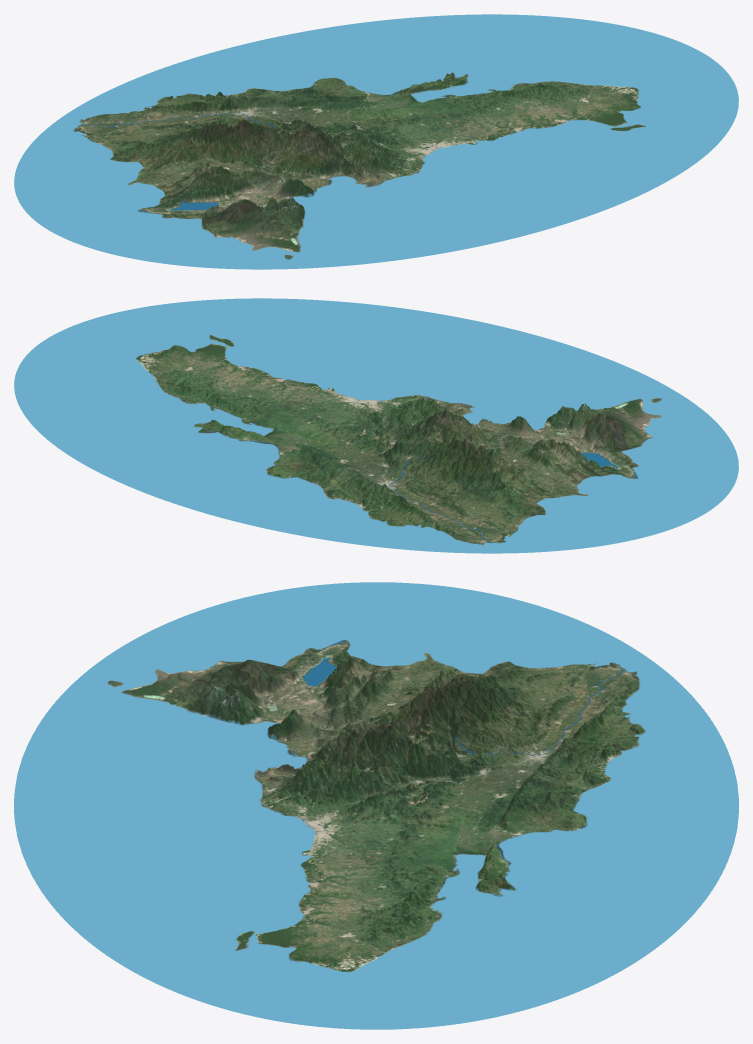
The model's file is DOM-previa-terrain.glb.
3 views of the same model, one above another, from view 1: azimuth 30°, elevation 25°; view 2: azimuth 150°, elevation 25°; view 3: azimuth 270°, elevation 25° (orthographic). The views are drawn at different scales.
Parts seen in each view (by area): view 1: República Dominicana; view 2: República Dominicana; view 3: República Dominicana.
Boxes of the visible parts, left/top/right/bottom form: República Dominicana: left=14, top=14, right=738, bottom=269; República Dominicana: left=14, top=298, right=738, bottom=553; República Dominicana: left=14, top=582, right=738, bottom=1029.
Size of the model in its own units: 2.37 by 0.1094 by 1.62.
Materials: 1 (1 with a texture image).
